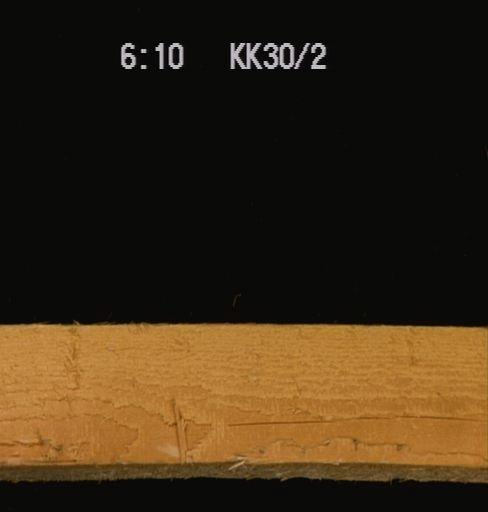split: (0, 462, 487, 482)
